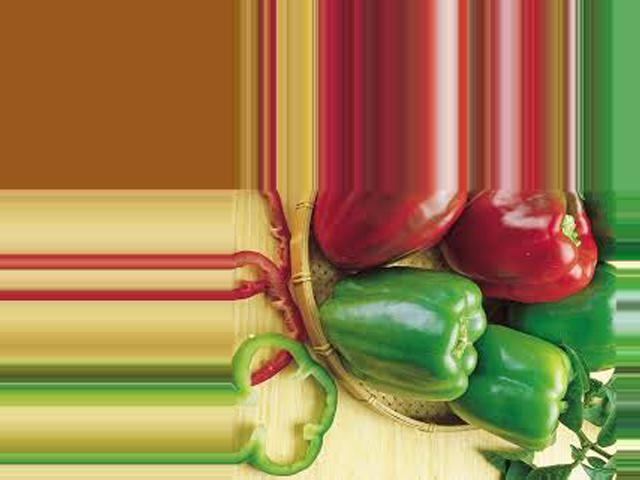bell_pepper: (309, 190, 470, 261)
